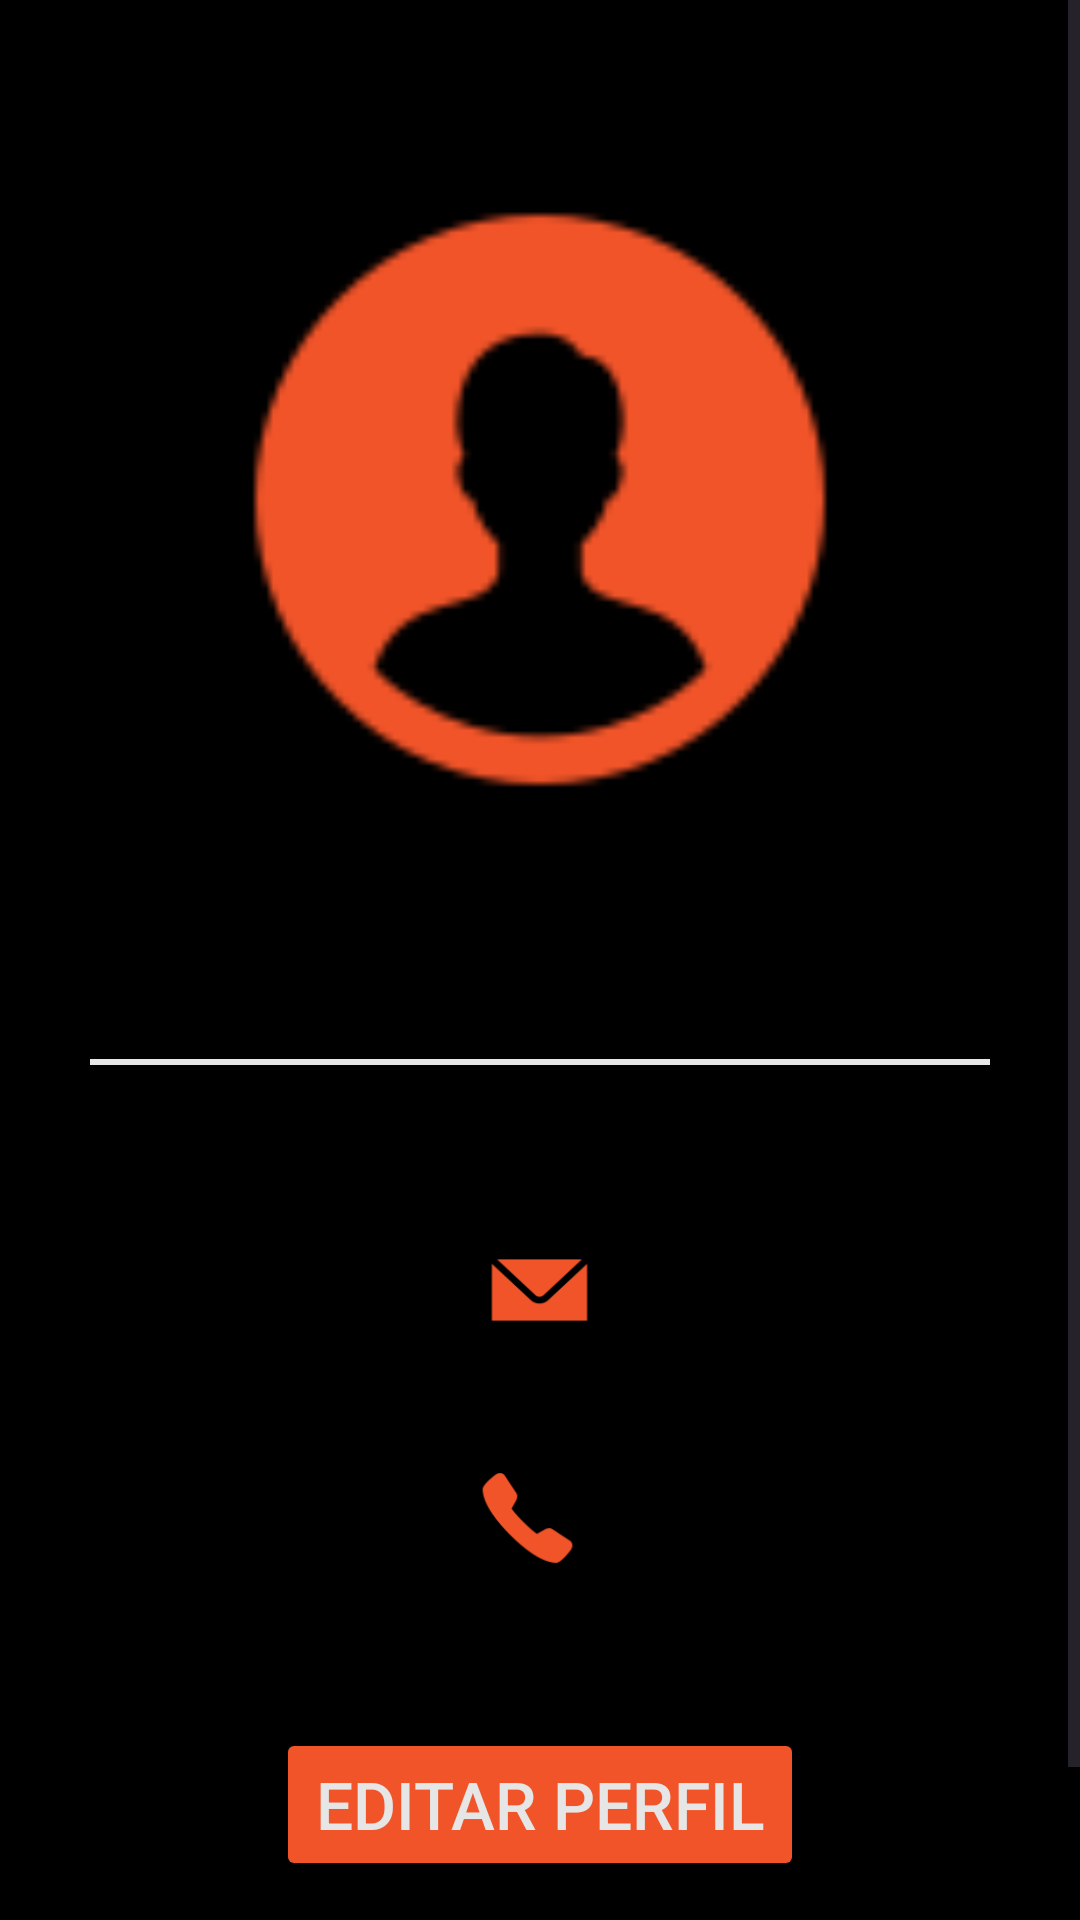

Where to tap for icons on this 1080*1920 app screen, as (x=x, y=y):
email: (x=539, y=1290)
telephone: (x=527, y=1518)
